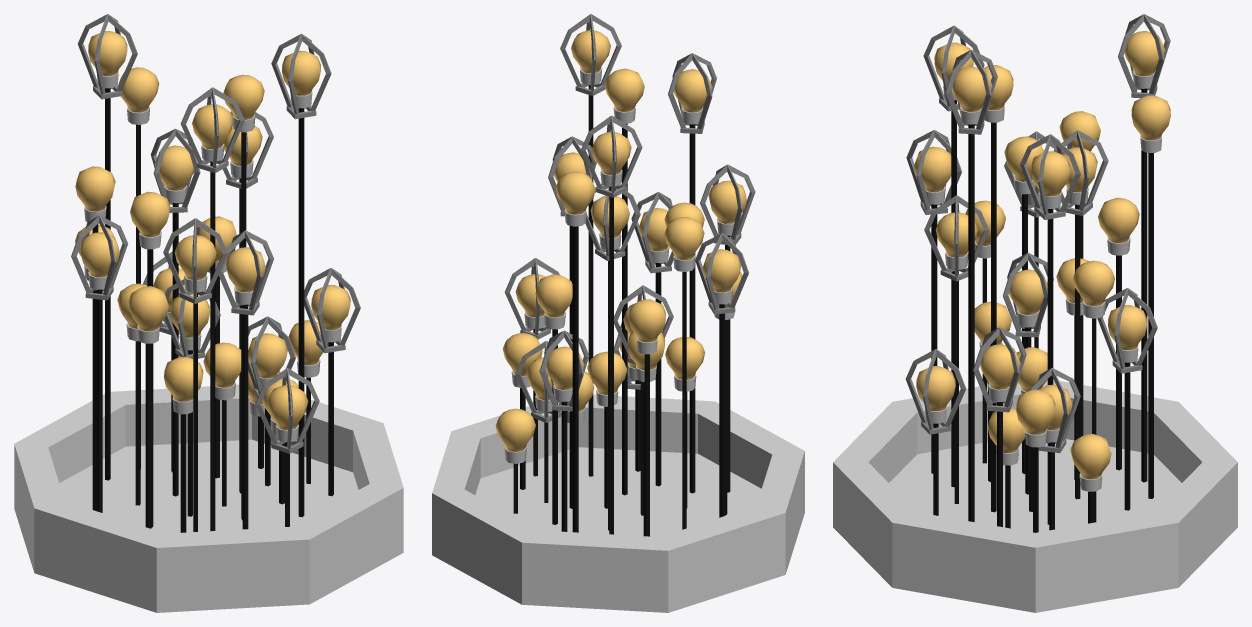
The model's file is Chandelier_Hotel_01.fbx.
3 renders of one model, left to right at view 1: azimuth 30°, elevation 25°; view 2: azimuth 150°, elevation 25°; view 3: azimuth 270°, elevation 25°, orthographic. The views are drawn at different scales.
Visible parts, largest first — view 1: Chandelier_bulbs, Chandelier_Base; view 2: Chandelier_bulbs, Chandelier_Base; view 3: Chandelier_bulbs, Chandelier_Base.
Part boxes in pixels (left/top/right/bottom): Chandelier_bulbs: left=71, top=14, right=360, bottom=532; Chandelier_Base: left=14, top=384, right=403, bottom=612; Chandelier_bulbs: left=495, top=14, right=755, bottom=536; Chandelier_Base: left=432, top=394, right=804, bottom=612; Chandelier_bulbs: left=905, top=14, right=1170, bottom=532; Chandelier_Base: left=833, top=380, right=1237, bottom=612.
Size of the model in its own units: 3.04 by 4.2 by 3.04.
